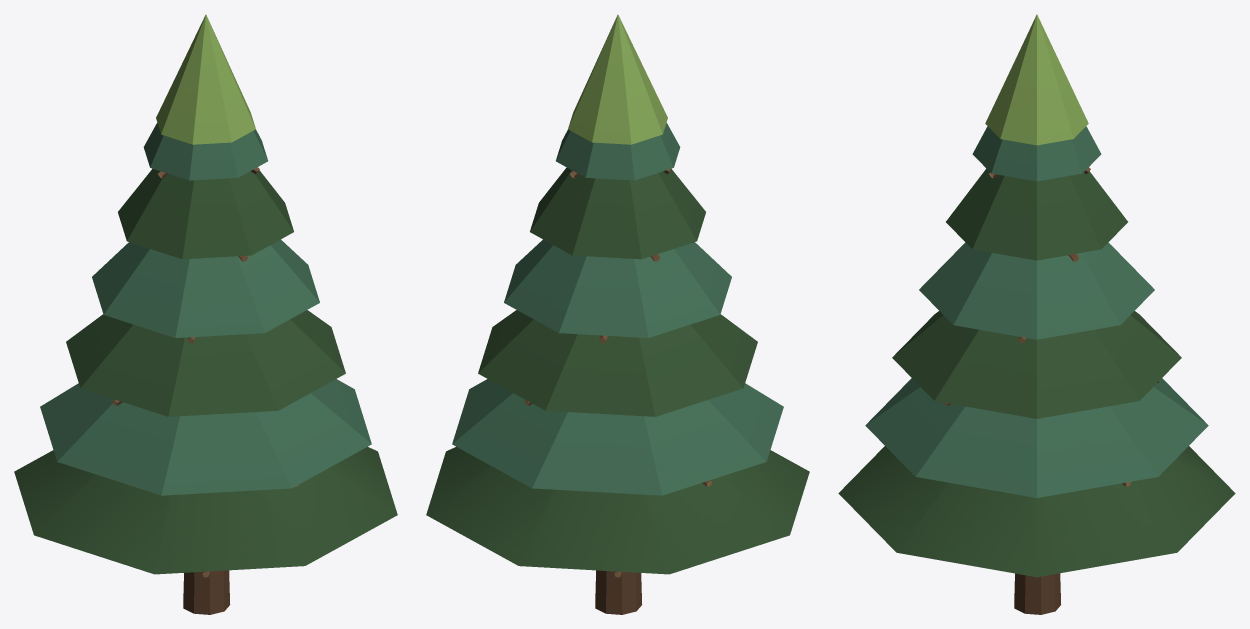
File: tree_pine_a.glb
The picture shows the model from 3 angles, left to right: view 1: azimuth 30°, elevation 25°; view 2: azimuth 150°, elevation 25°; view 3: azimuth 270°, elevation 25°; orthographic projection.
Visible parts, largest first — view 1: tree_pine_a; view 2: tree_pine_a; view 3: tree_pine_a.
Boxes of the visible parts, bbox=[...] form: tree_pine_a: bbox=[14, 14, 397, 614]; tree_pine_a: bbox=[426, 14, 809, 614]; tree_pine_a: bbox=[838, 14, 1235, 614].
Size of the model in its own units: 4.6 by 7.55 by 4.6.
